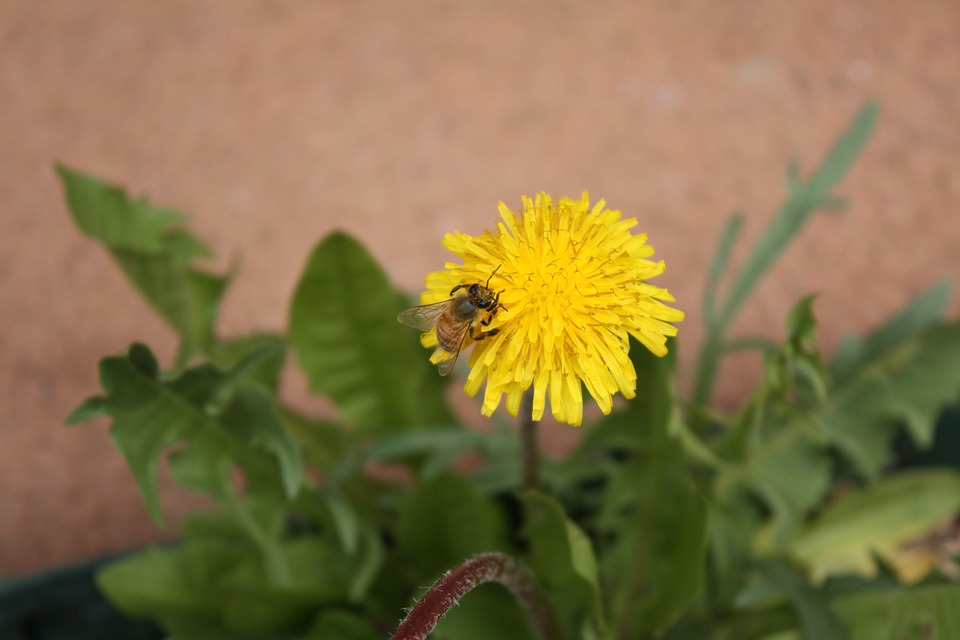dandelion: (423, 212, 650, 416)
